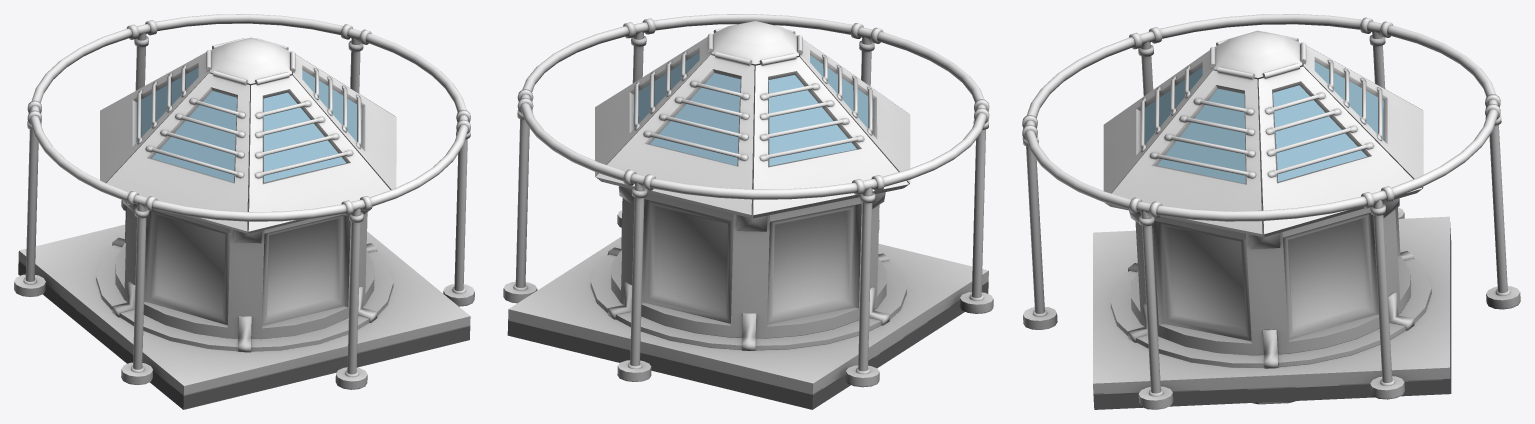
Rendered from Skylight_Mesh.fbx.
3 views of the same model, side by side, from view 1: azimuth 30°, elevation 25°; view 2: azimuth 150°, elevation 25°; view 3: azimuth 270°, elevation 25° (orthographic). The views are drawn at different scales.
Parts seen in each view (by area): view 1: Skylight; view 2: Skylight; view 3: Skylight.
Part boxes in pixels (x1,y1,x2,y2): Skylight: (14, 14, 474, 409); Skylight: (503, 14, 993, 409); Skylight: (1022, 14, 1520, 409).
Bounding box in the file's own units: 154 × 115 × 161.
